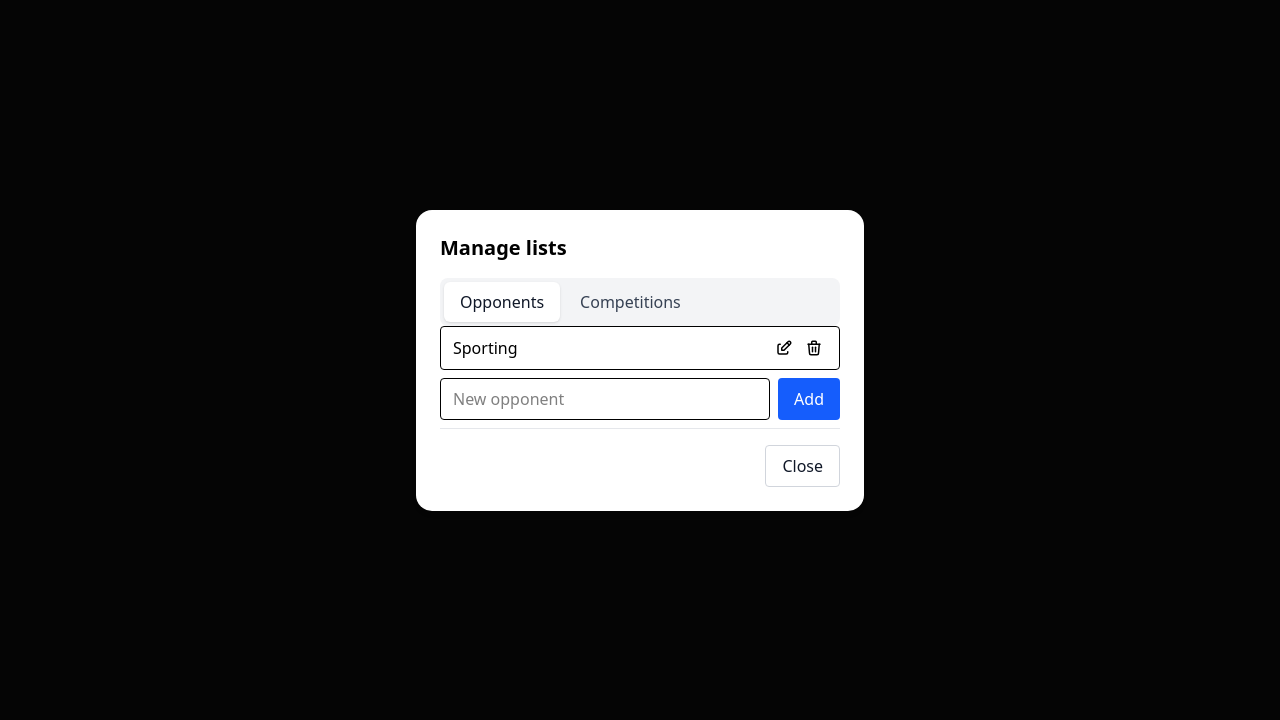
Test case: a name present in both lists is managed independently on each tab (edge case)
The width and height of the screenshot is (1280, 720).
Expected: the text "Sporting" is shown, top-left (453, 336), bottom-right (518, 360)
Click the button named "Delete Sporting": (814, 348) top-left (801, 334), bottom-right (827, 360)
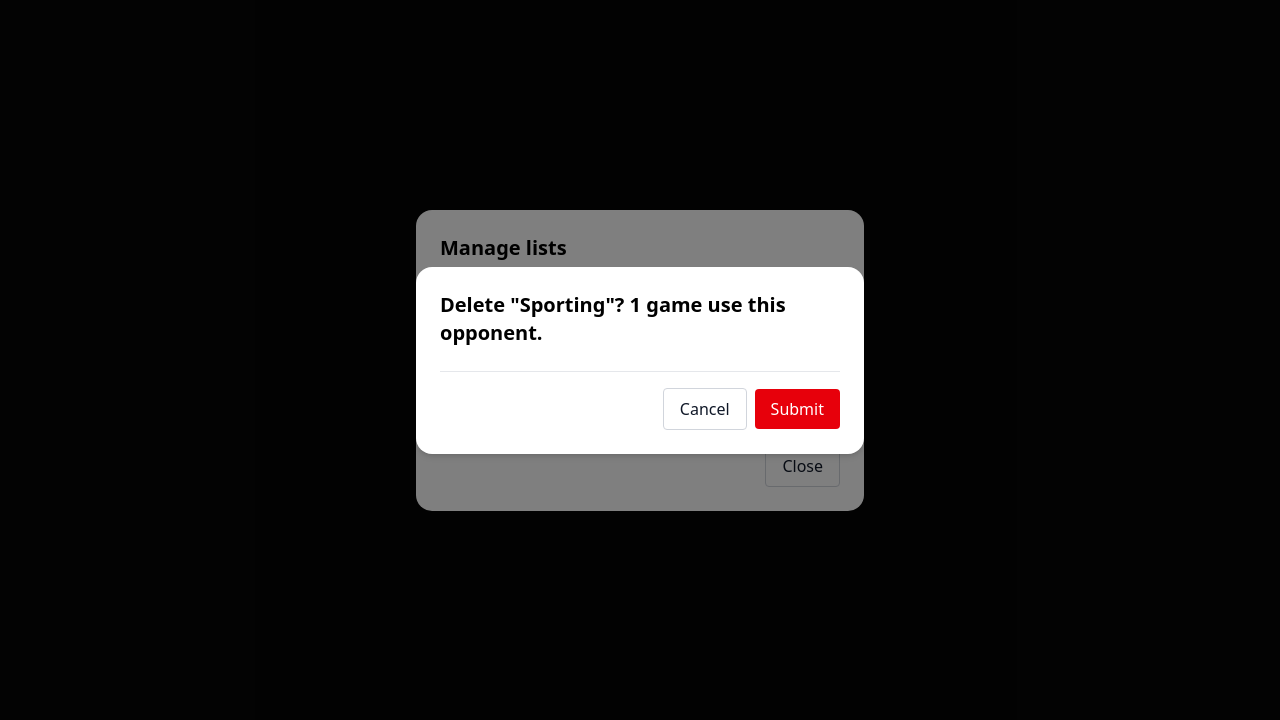
Click the button "Submit": (797, 408) top-left (755, 388), bottom-right (840, 428)
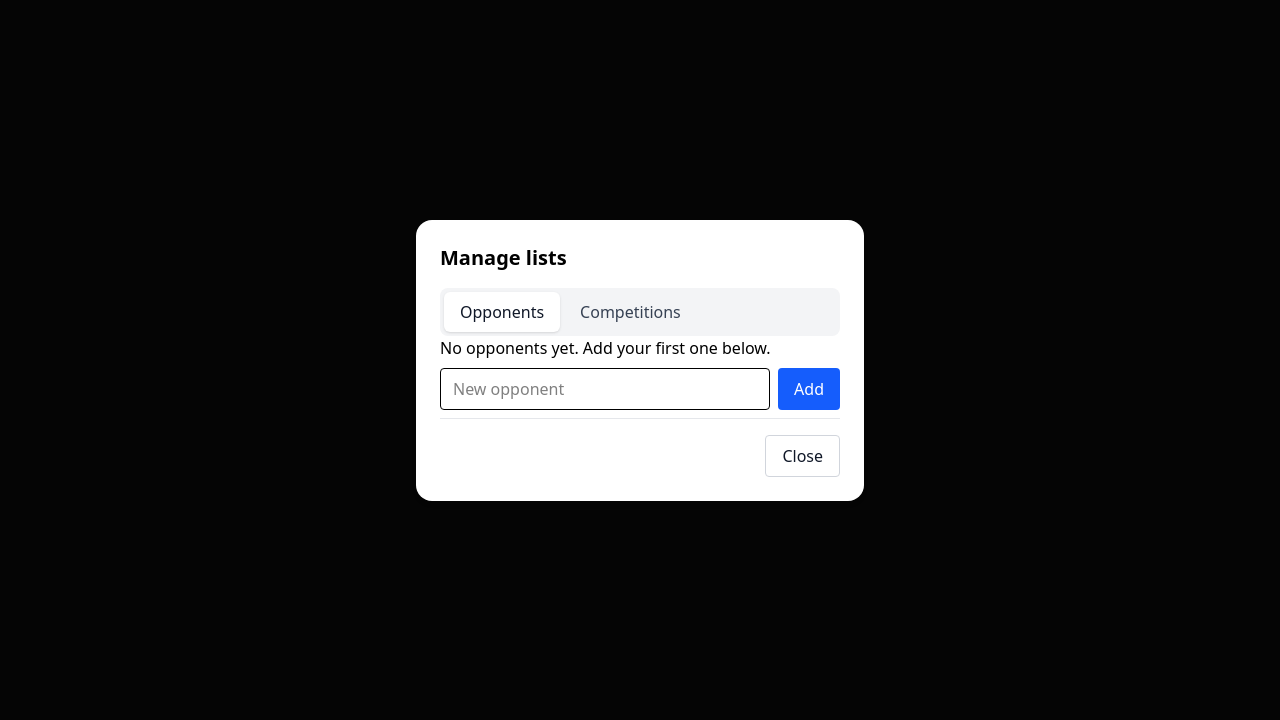
Expected: the text "No opponents yet. Add your first one below." is shown, top-left (440, 336), bottom-right (771, 358)
Click the tab "Competitions": (630, 312) top-left (564, 292), bottom-right (697, 332)
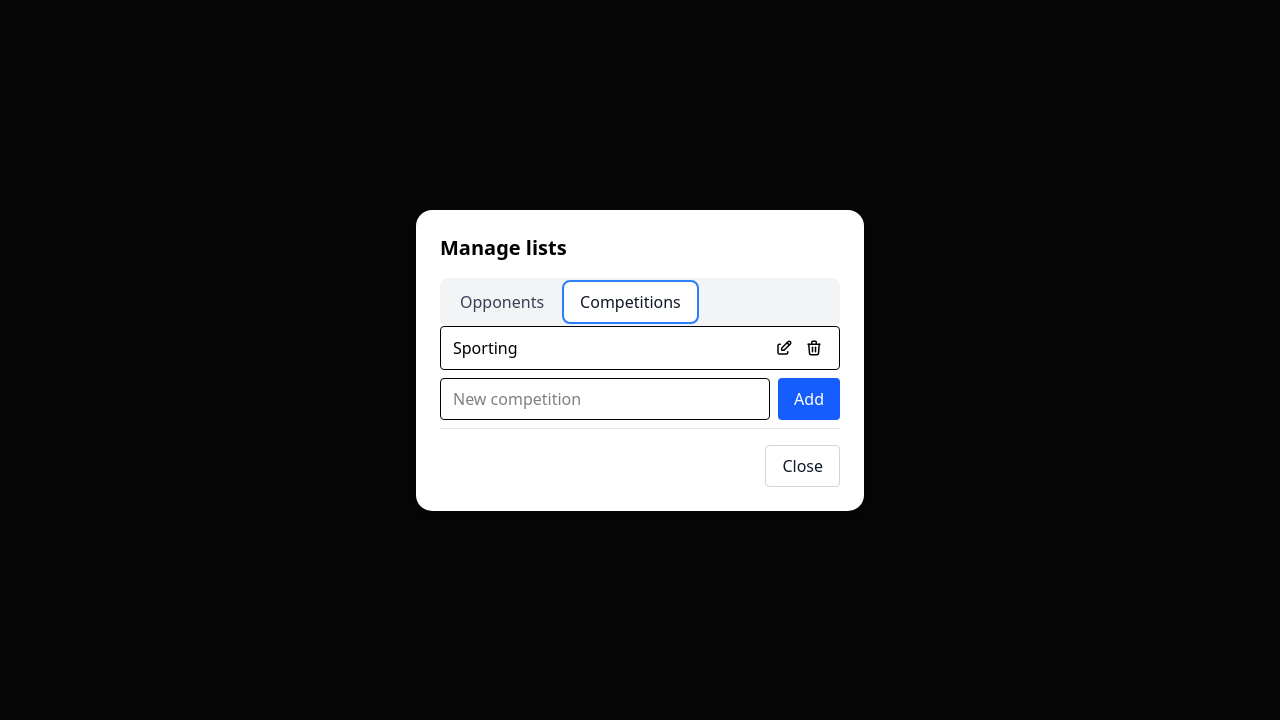
Expected: the text "Sporting" is shown, top-left (453, 336), bottom-right (518, 360)
